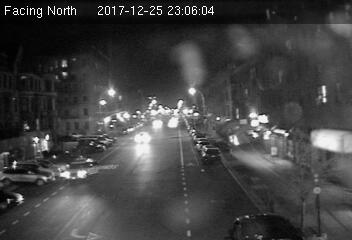car: (64, 157, 98, 181), (199, 144, 221, 162), (133, 131, 151, 144)
